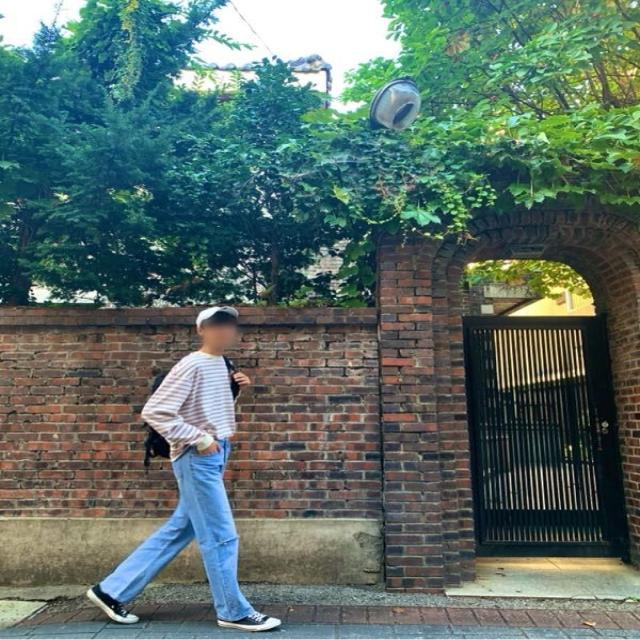denimpants: (96, 439, 255, 624)
longsleeve: (138, 355, 236, 459)
